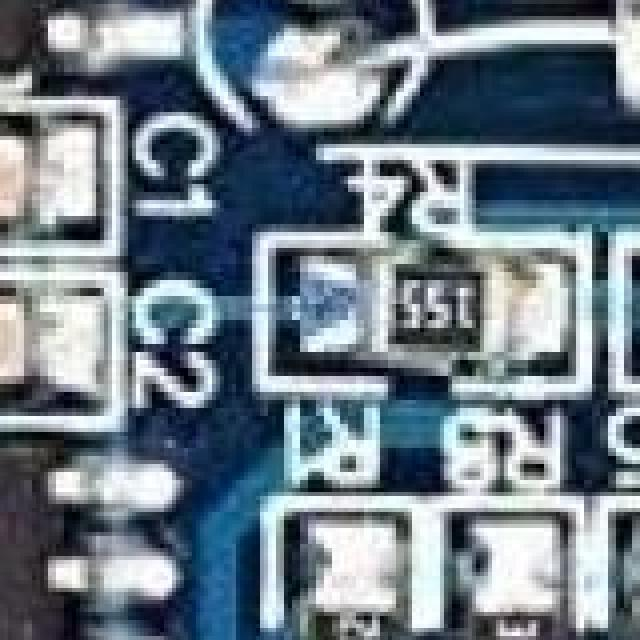IC: (0, 416, 128, 640), (0, 0, 80, 88)
capacitor: (0, 92, 76, 240), (0, 268, 68, 420)
clock: (284, 0, 640, 144)
resistor: (296, 220, 570, 386), (264, 512, 408, 640), (444, 540, 588, 640), (628, 516, 640, 640)
